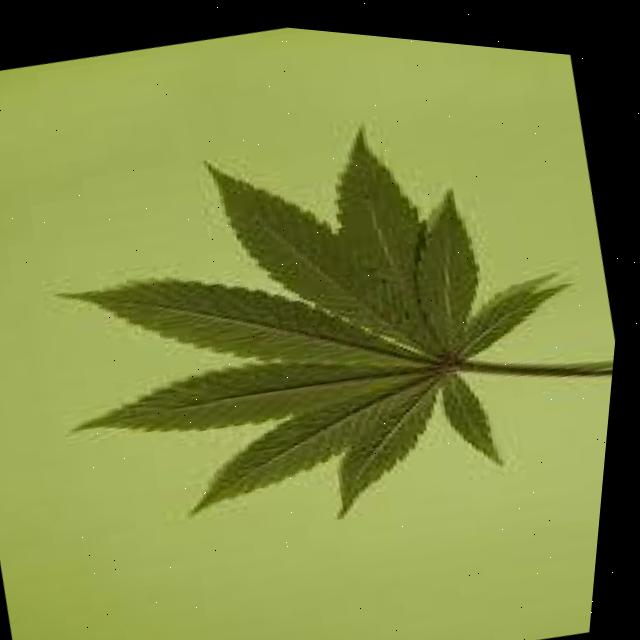cannabis: (68, 129, 614, 520)
